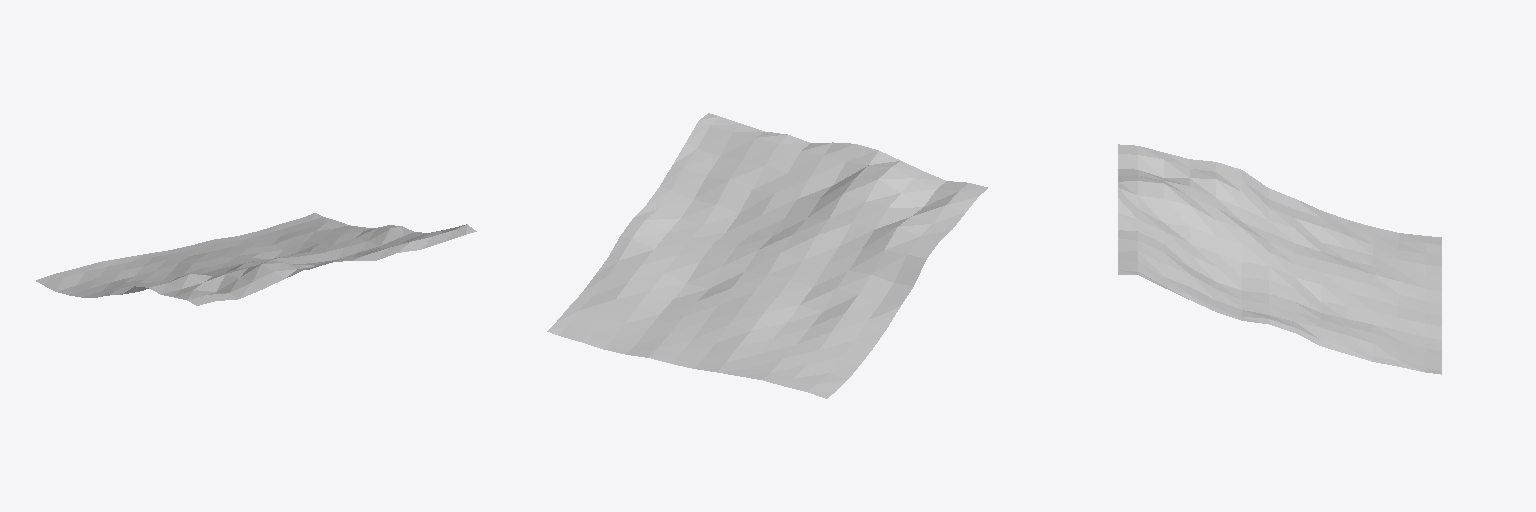
File: Landscape.035.obj
3 renders of one model, left to right at view 1: azimuth 30°, elevation 25°; view 2: azimuth 150°, elevation 25°; view 3: azimuth 270°, elevation 25°, orthographic.
Visible parts, largest first — view 1: Landscape.035; view 2: Landscape.035; view 3: Landscape.035.
Part boxes in pixels (left/top/right/bottom): Landscape.035: left=36, top=213, right=476, bottom=305; Landscape.035: left=547, top=113, right=987, bottom=398; Landscape.035: left=1118, top=144, right=1441, bottom=374.
Bounding box in the file's own units: 32 × 11.93 × 32.